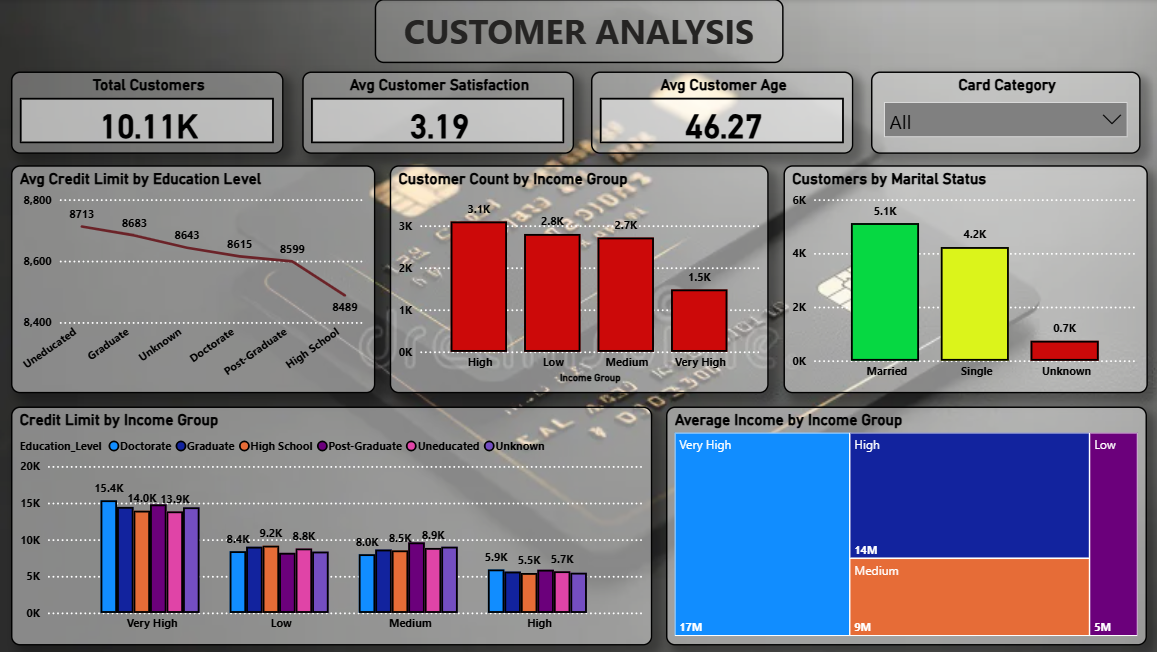

The dashboard page shown, as its layout file describes it:
{"tool":"powerbi","page":{"name":"Customer Analysis","canvas":[1280,720],"ordinal":1},"visuals":[{"type":"textbox","box":[416,0,449,70],"z":0},{"type":"cardVisual","title":"Total Customers","fields":{"Data":["Count(customer.Client_Num)"]},"box":[16,80,299,90],"z":1000},{"type":"cardVisual","title":"Avg Customer Satisfaction","fields":{"Data":["Avg(customer.Cust_Satisfaction_Score)"]},"box":[336,80,298,90],"z":2000},{"type":"cardVisual","title":"Avg Customer Age","fields":{"Data":["Avg(customer.Customer_Age)"]},"box":[653,80,288,90],"z":3000},{"type":"slicer","title":"Card Category","fields":{"Values":["credit_card (2).Card_Category"]},"box":[960,80,296,90],"z":4000},{"type":"lineChart","title":"Avg Credit Limit by Education Level","fields":{"Y":["Avg(credit_card (2).Credit_Limit)"],"Category":["customer.Education_Level"]},"box":[16,183,400,250],"z":5000},{"type":"columnChart","title":"Customer Count by Income Group","fields":{"Y":["Count(credit_card (2).Client_Num)"],"Category":["customer.Income Group"]},"box":[432,183,416,250],"z":6000},{"type":"clusteredColumnChart","title":"Customers by Marital Status ","fields":{"Category":["customer.Marital_Status"],"Y":["Count(customer.Client_Num)"]},"box":[864,183,400,250],"z":7000},{"type":"clusteredColumnChart","title":"Credit Limit by Income Group","fields":{"Category":["customer.Income Group"],"Y":["Avg(credit_card (2).Credit_Limit)"],"Series":["customer.Education_Level"]},"box":[16,448,704,262],"z":8000},{"type":"treemap","title":"Average Income by Income Group","fields":{"Group":["customer.Income Group"],"Values":["Sum(credit_card (2).Total_Trans_Amt)"]},"box":[736,448,528,262],"z":9000}]}

Visuals, with their boxes in screenshot pixels (x1, y1, x2, y2), scaled from the page's 1280x720 canvas onto the 1157x652 screenshot:
textbox: [376,0,782,63]
"Total Customers" cardVisual: [14,72,285,154]
"Avg Customer Satisfaction" cardVisual: [304,72,573,154]
"Avg Customer Age" cardVisual: [590,72,851,154]
"Card Category" slicer: [868,72,1135,154]
"Avg Credit Limit by Education Level" lineChart: [14,166,376,392]
"Customer Count by Income Group" columnChart: [390,166,767,392]
"Customers by Marital Status " clusteredColumnChart: [781,166,1143,392]
"Credit Limit by Income Group" clusteredColumnChart: [14,406,651,643]
"Average Income by Income Group" treemap: [665,406,1143,643]
